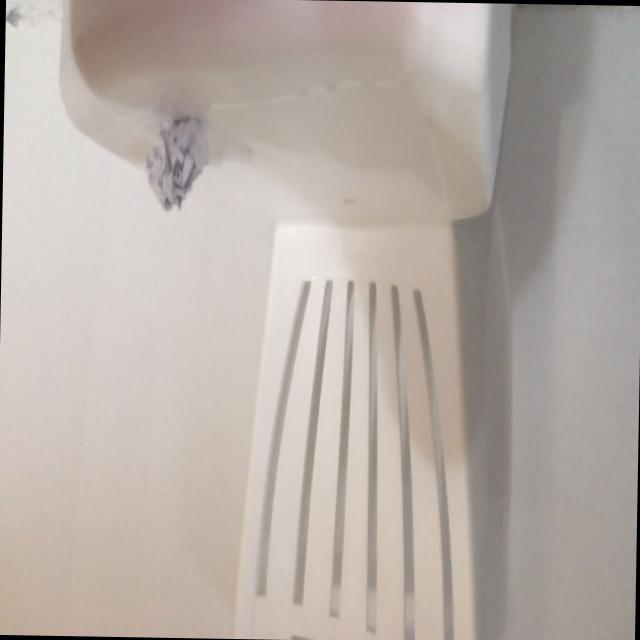crumpled_paper: (141, 114, 213, 216)
